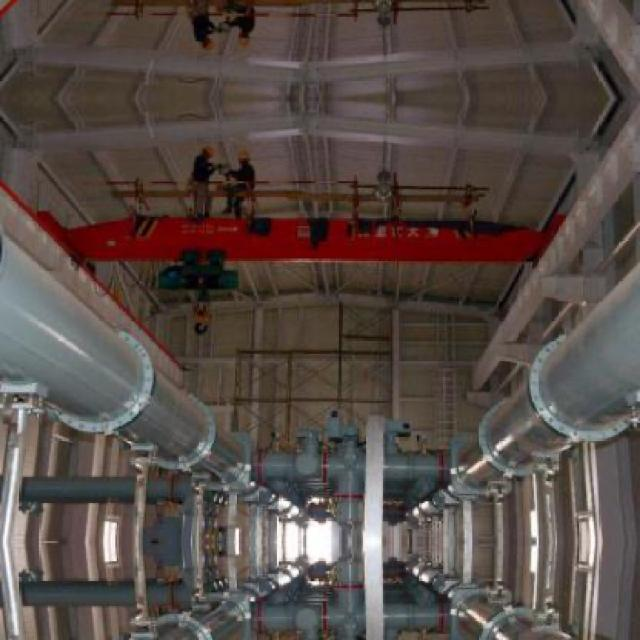con casco: (189, 139, 220, 170), (228, 149, 266, 170)
